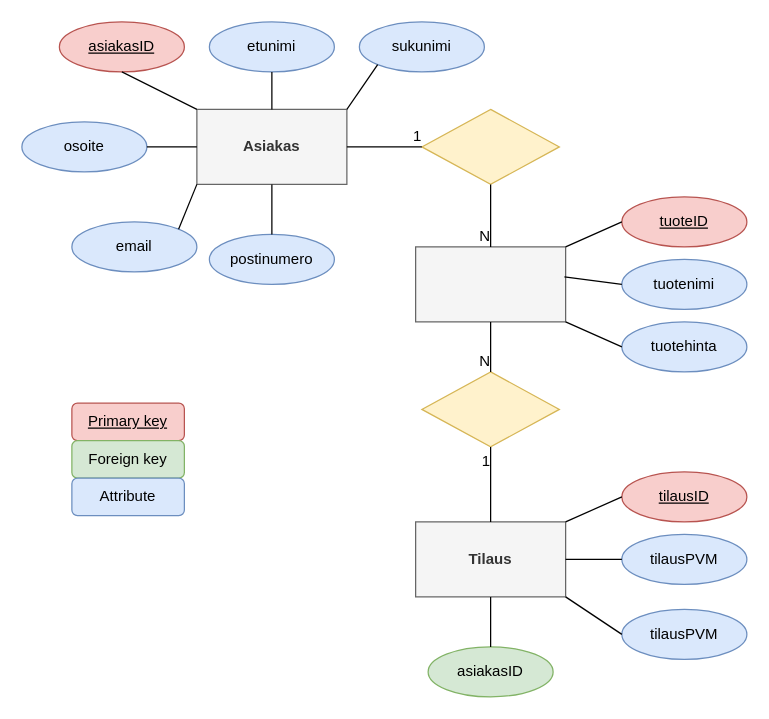
Some shapes in this 769 by 719 pixel diagram are drawn without their labels. Here are the shapes that lost their labels. From the top down, the centre of each, then its label:
the point at 490,146: ostaa
the point at 490,284: Tuote
the point at 490,409: muodostuu
